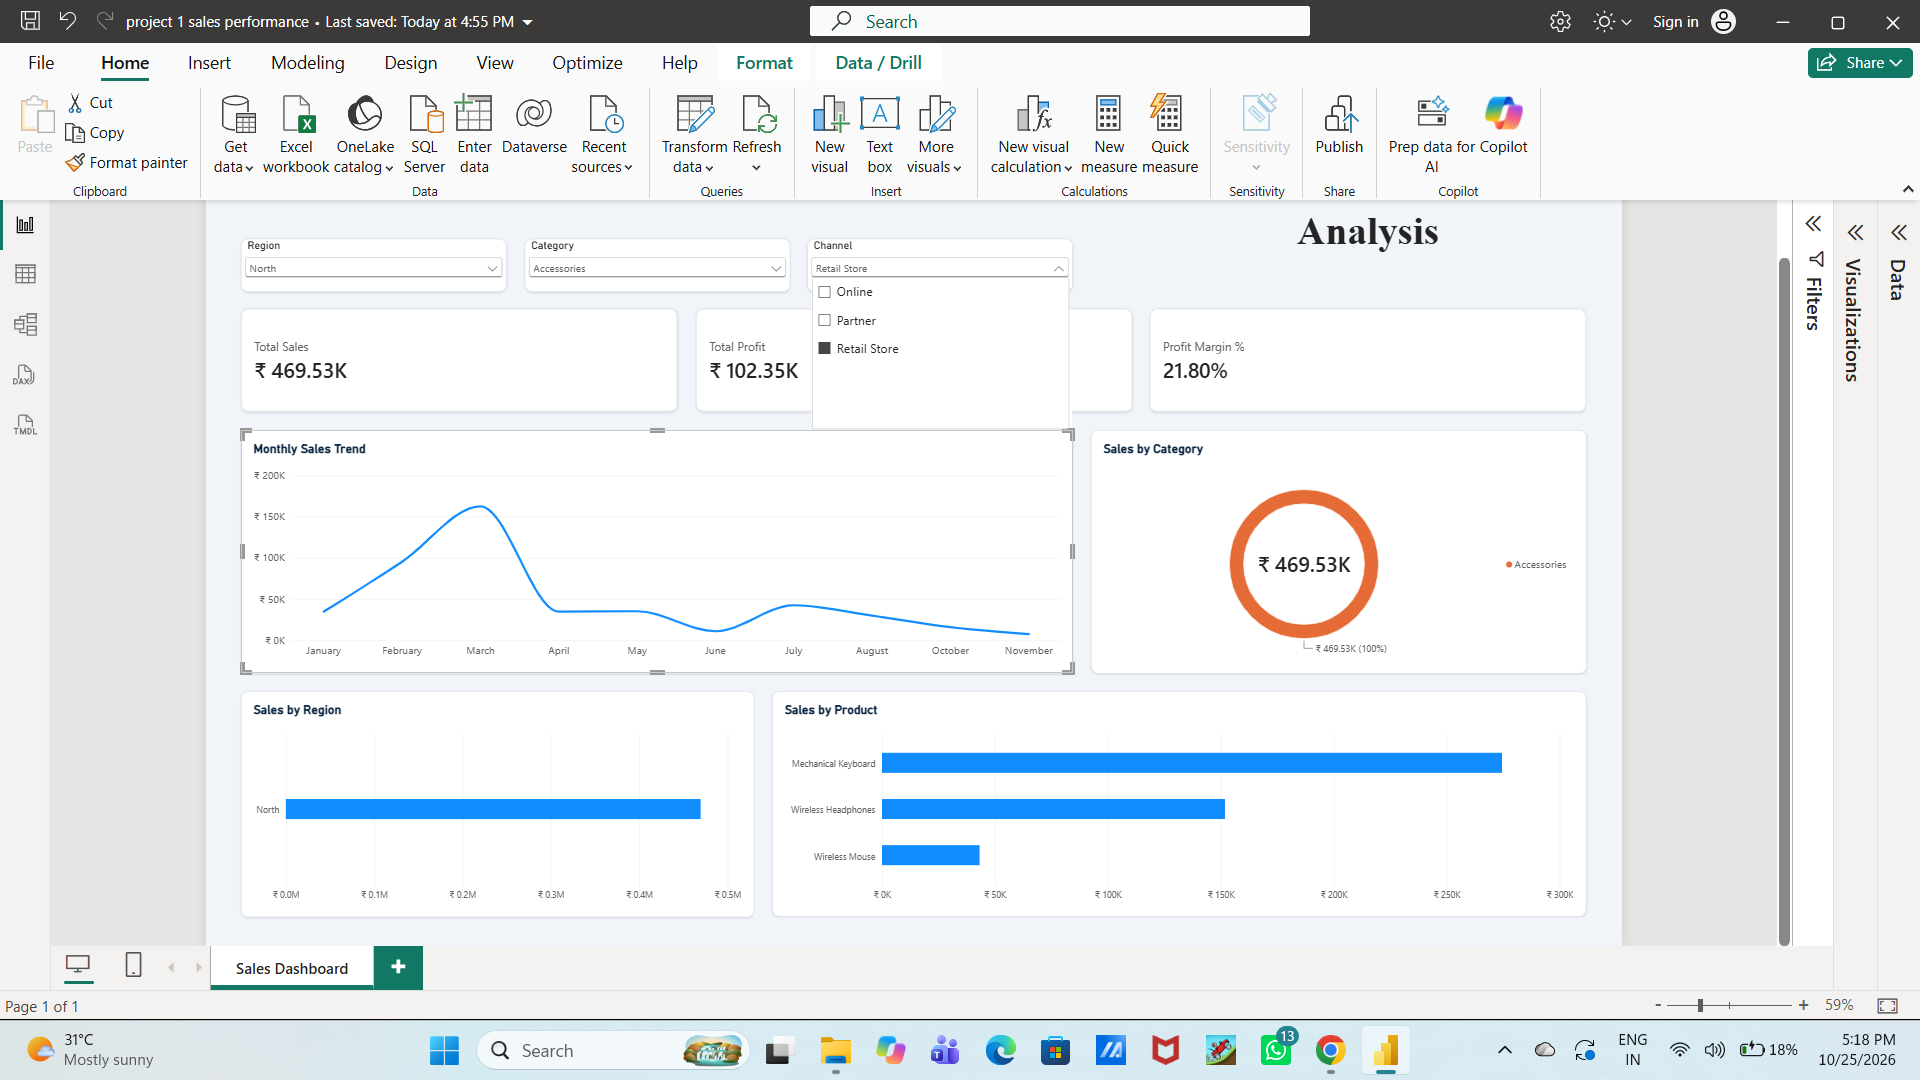

The page's visual inventory and layout, read from the dashboard file:
{"tool":"powerbi","page":{"name":"Sales Dashboard","canvas":[1920,1080],"ordinal":0},"visuals":[{"type":"slicer","fields":{"Values":["Raw_Data.Region"]},"box":[48,120,360,72],"z":0},{"type":"slicer","fields":{"Values":["Raw_Data.Category"]},"box":[432,120,360,72],"z":1000},{"type":"slicer","fields":{"Values":["Raw_Data.Channel"]},"box":[816,120,360,72],"z":2000},{"type":"cardVisual","fields":{"Data":["Raw_Data.Total Sales"]},"box":[48,216,592,140],"z":3000},{"type":"cardVisual","fields":{"Data":["Raw_Data.Total Profit"]},"box":[664,216,592,140],"z":4000},{"type":"cardVisual","fields":{"Data":["Raw_Data.Profit Margin %"]},"box":[1280,216,592,140],"z":5000},{"type":"lineChart","title":"Monthly Sales Trend","fields":{"Category":["Raw_Data.Order Date.Variation.Date Hierarchy.Month"],"Y":["Raw_Data.Total Sales"]},"box":[48,380,1128,330],"z":6000},{"type":"donutChart","title":"Sales by Category","fields":{"Category":["Raw_Data.Category"],"Y":["Raw_Data.Total Sales"]},"box":[1200,380,672,330],"z":7000},{"type":"clusteredBarChart","title":"Sales by Region","fields":{"Category":["Raw_Data.Region"],"Y":["Raw_Data.Total Sales"]},"box":[48,734,696,306],"z":8000},{"type":"clusteredBarChart","title":"Sales by Product","fields":{"Category":["Raw_Data.Product"],"Y":["Raw_Data.Total Sales"]},"box":[767.3,734.7,1103.9,305.8],"z":9000},{"type":"textbox","box":[1280,18,592,150],"z":10000}]}

Visuals, with their boxes on the page's 1920x1080 design canvas (x1, y1, x2, y2). These are canvas units, not pixel positions in the 1920x1080 screenshot, which may show the page scaled, cropped or inside an application window:
slicer - Raw_Data.Region: 48,120,408,192
slicer - Raw_Data.Category: 432,120,792,192
slicer - Raw_Data.Channel: 816,120,1176,192
cardVisual - Raw_Data.Total Sales: 48,216,640,356
cardVisual - Raw_Data.Total Profit: 664,216,1256,356
cardVisual - Raw_Data.Profit Margin %: 1280,216,1872,356
"Monthly Sales Trend" lineChart: 48,380,1176,710
"Sales by Category" donutChart: 1200,380,1872,710
"Sales by Region" clusteredBarChart: 48,734,744,1040
"Sales by Product" clusteredBarChart: 767,735,1871,1040
textbox: 1280,18,1872,168
